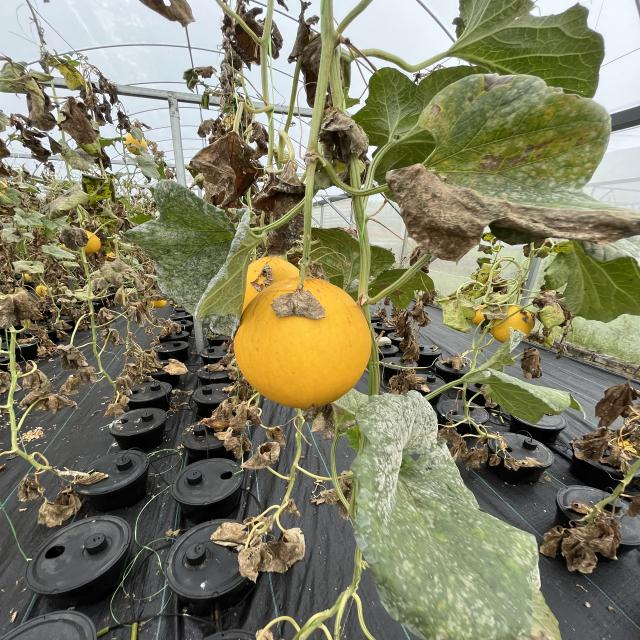alternaria leaf blight: (395, 84, 636, 256), (439, 296, 481, 339), (463, 266, 495, 297), (481, 236, 500, 253)
bacterial wilt: (199, 134, 259, 196), (322, 118, 368, 159), (62, 104, 100, 150), (267, 532, 309, 573), (274, 288, 320, 321), (29, 498, 81, 525), (592, 384, 629, 418), (0, 289, 38, 322), (234, 545, 269, 580), (0, 180, 38, 212), (230, 31, 256, 74), (573, 433, 612, 461), (0, 62, 35, 93), (542, 304, 566, 347), (19, 391, 72, 409), (242, 447, 280, 472), (54, 57, 91, 82), (48, 186, 85, 211), (54, 227, 97, 247), (27, 85, 49, 122), (207, 401, 236, 428), (15, 118, 41, 148), (180, 64, 210, 90), (219, 408, 249, 433), (14, 479, 46, 502), (18, 369, 51, 390), (520, 348, 546, 374), (256, 425, 284, 449), (56, 344, 80, 371), (74, 471, 111, 487), (217, 523, 245, 544), (120, 306, 143, 330), (220, 56, 238, 86), (607, 449, 629, 471), (107, 397, 127, 419), (156, 318, 180, 335), (222, 434, 242, 454), (58, 376, 76, 398), (228, 383, 250, 399), (102, 326, 123, 341), (115, 374, 133, 390), (138, 351, 158, 364), (80, 363, 92, 382)
healthy: (440, 0, 610, 72), (542, 238, 640, 320)
powdery mildew: (327, 396, 567, 640)
